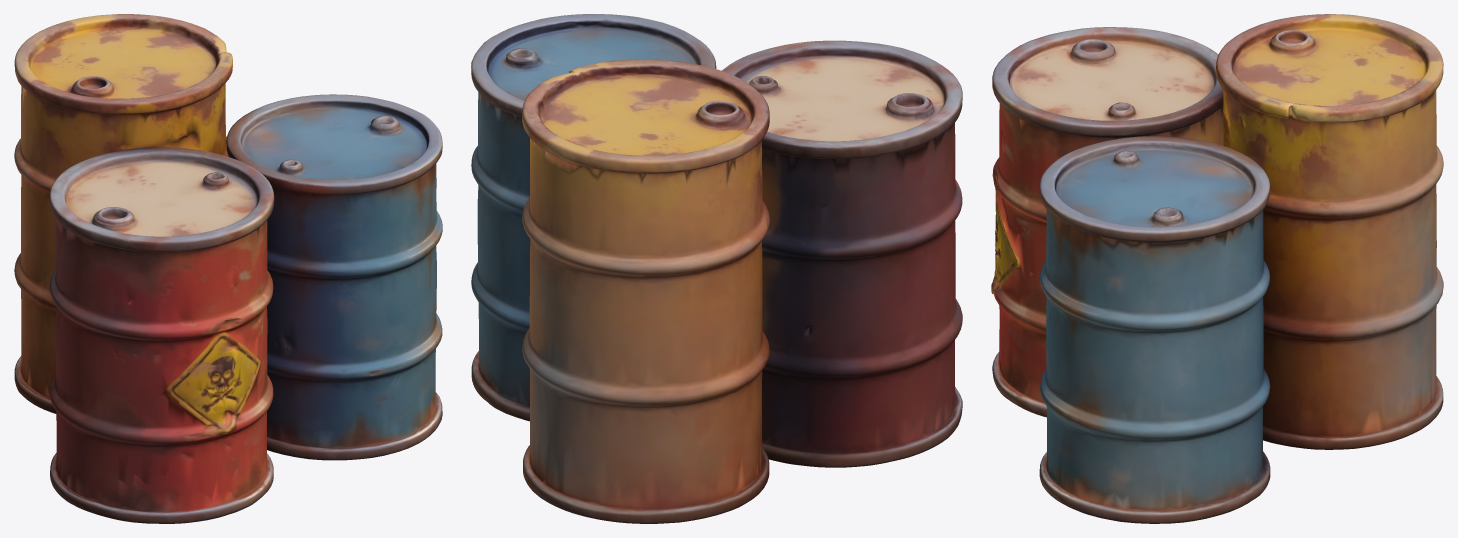
Rendered from metal_drums.glb.
3 renders of one model, left to right at view 1: azimuth 30°, elevation 25°; view 2: azimuth 150°, elevation 25°; view 3: azimuth 270°, elevation 25°, orthographic. The views are drawn at different scales.
Parts seen in each view (by area): view 1: tripo_part_0, tripo_part_2, tripo_part_1; view 2: tripo_part_1, tripo_part_0, tripo_part_2; view 3: tripo_part_2, tripo_part_1, tripo_part_0.
Part boxes in pixels (box(x1,y1,x2,y2)): tripo_part_0: box(49, 147, 274, 523); tripo_part_2: box(226, 94, 442, 460); tripo_part_1: box(14, 14, 232, 413); tripo_part_1: box(522, 59, 769, 523); tripo_part_0: box(722, 40, 962, 467); tripo_part_2: box(471, 14, 716, 421); tripo_part_2: box(1039, 136, 1270, 523); tripo_part_1: box(1216, 14, 1443, 449); tripo_part_0: box(991, 27, 1223, 417).
Bounding box in the file's own units: 0.9795 × 0.8017 × 0.9433.
1 material, 1 textured.
